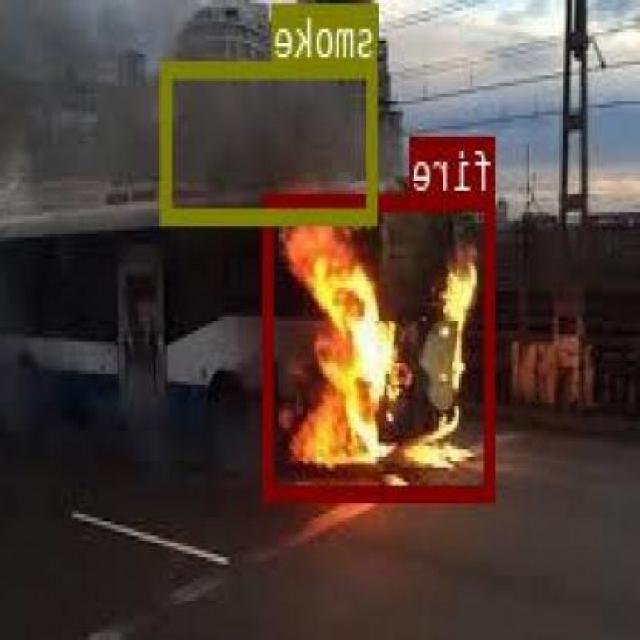Fire: (267, 191, 496, 498)
Smoke: (164, 58, 378, 222)
